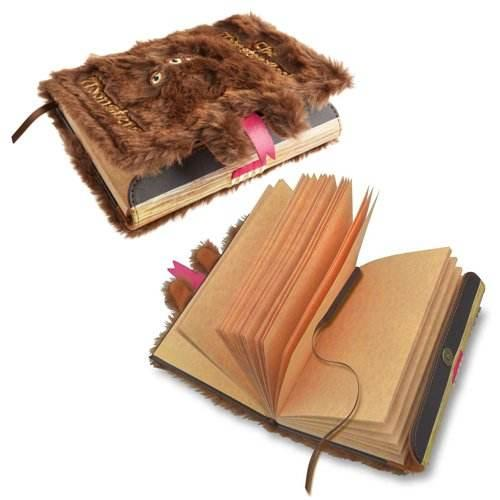book: (133, 162, 487, 499), (7, 9, 393, 238)
